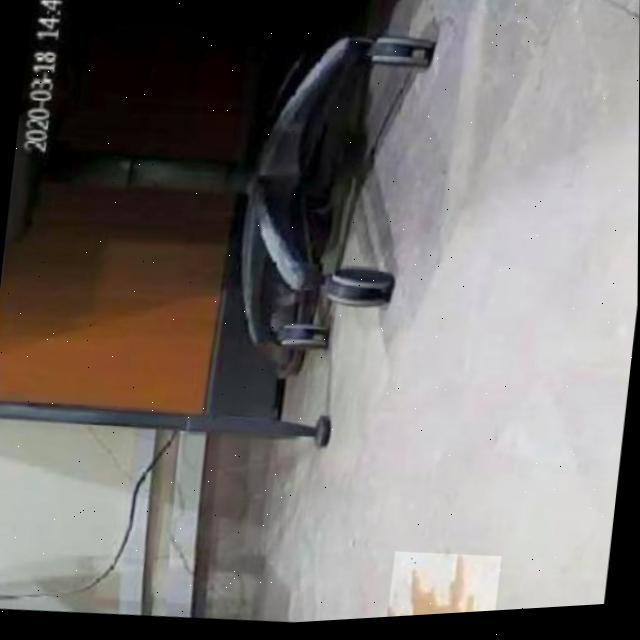spillage: (389, 559, 485, 622)
